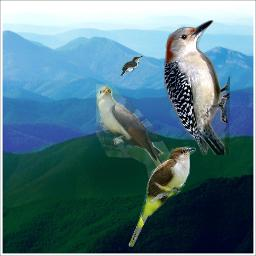Cuckoo: (96, 84, 179, 191), (128, 146, 196, 247), (120, 56, 143, 76)
Woodpecker: (164, 20, 230, 155)
